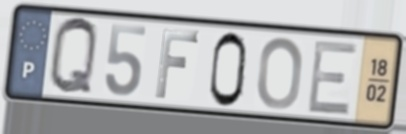0: (207, 29, 250, 109)
5: (103, 22, 149, 99)
E: (304, 39, 360, 119)
F: (153, 27, 202, 101)
O: (255, 35, 306, 112)
Q: (46, 15, 100, 99)
